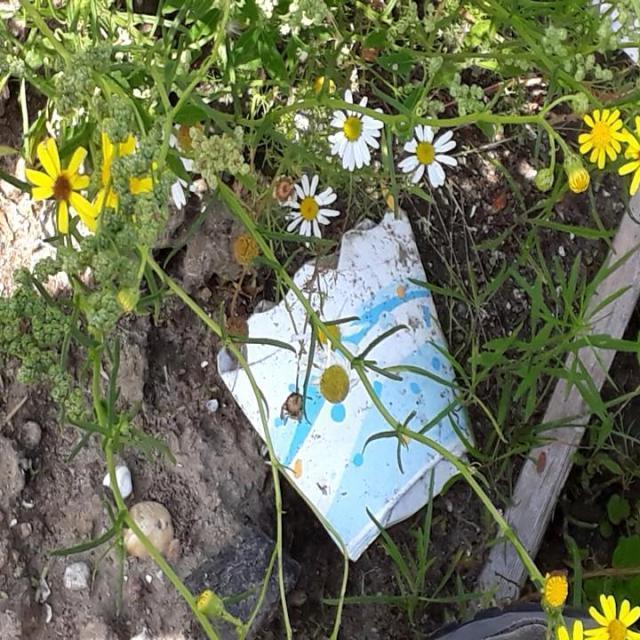Paper: (214, 208, 478, 564)
